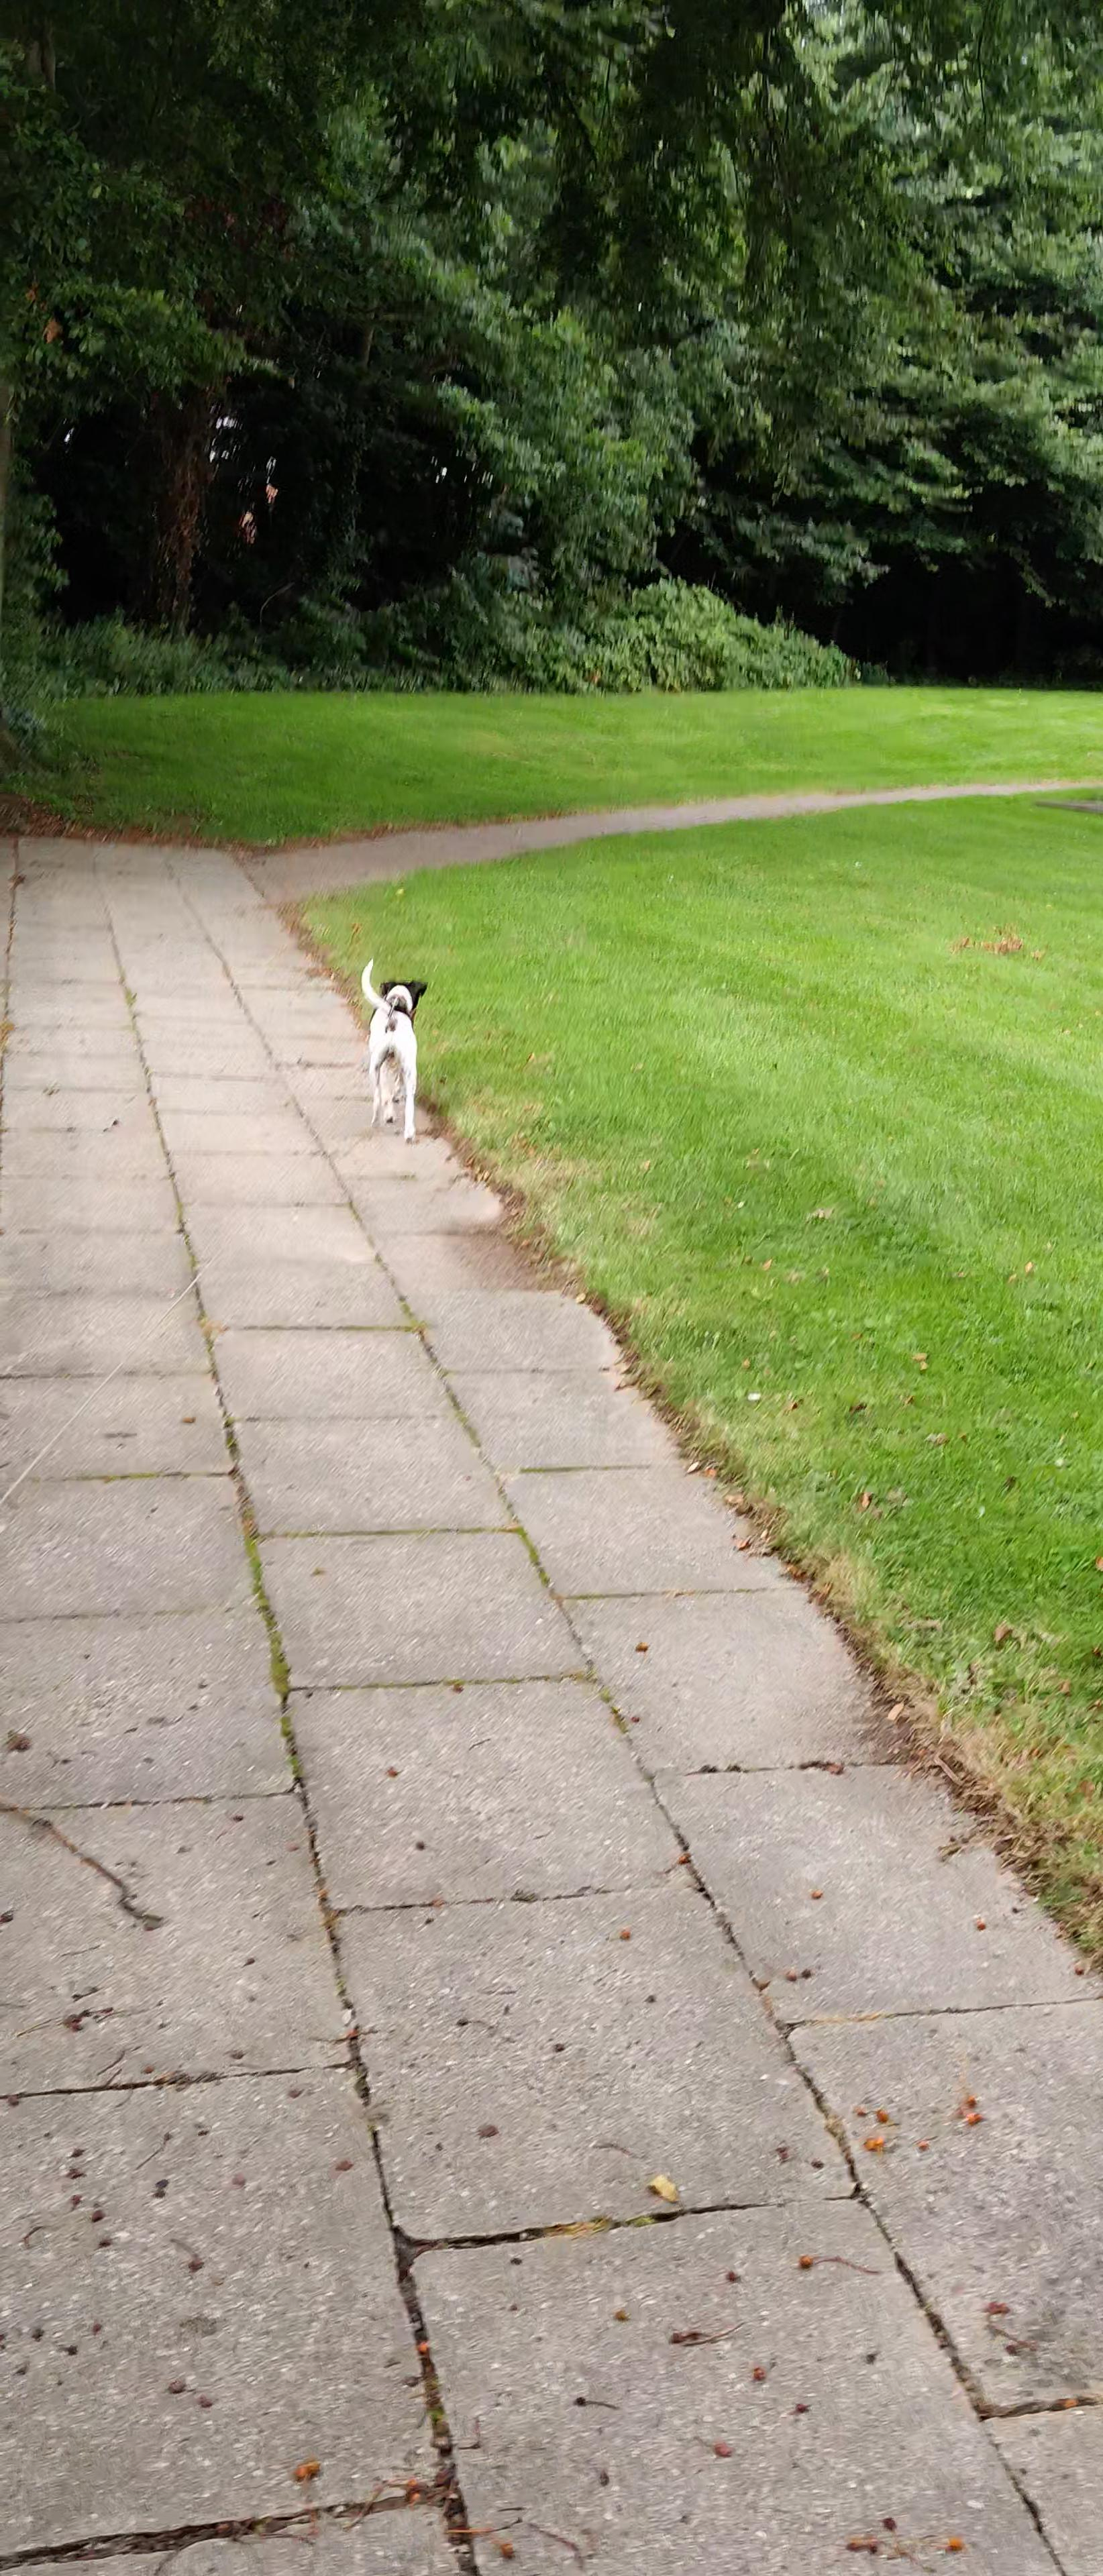Dog: (344, 951, 441, 1155)
